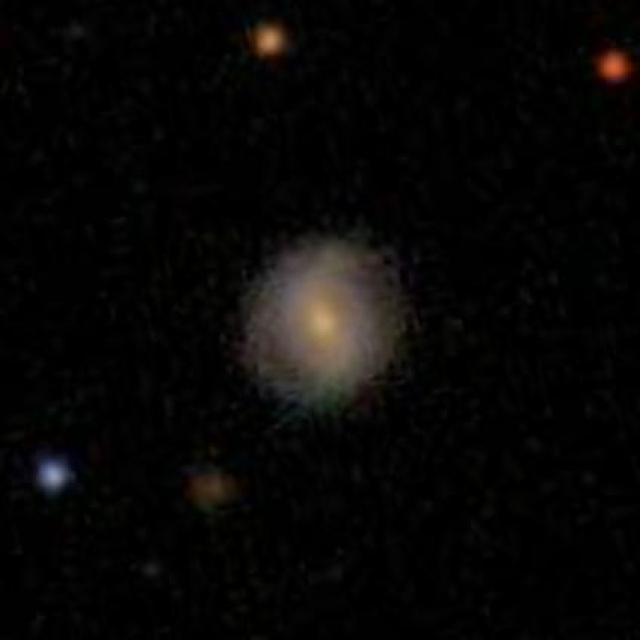galaxy: (224, 229, 425, 426), (183, 461, 243, 523), (245, 14, 297, 66), (29, 454, 80, 502), (596, 44, 632, 88)
